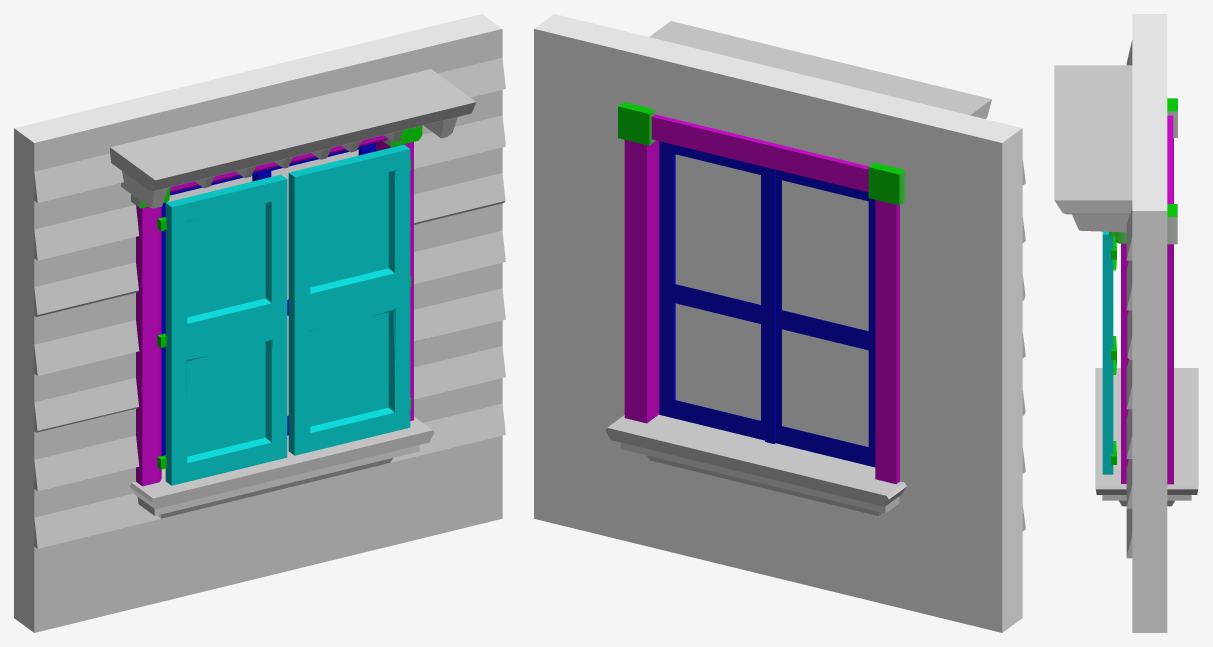
File: EAThe80_WindowWide_4x4.fbx
3 views of the same model, side by side, from view 1: azimuth 30°, elevation 25°; view 2: azimuth 150°, elevation 25°; view 3: azimuth 270°, elevation 25° (orthographic). The views are drawn at different scales.
Visible parts, largest first — view 1: EAThe80_WindowWide_4x4_01, EAThe80_WallInter_Big_01_L, EAThe80_WallInter_Big_01_R, EAThe80_WindowRoof_x4_01, EAThe80_Window_int_01; view 2: EAThe80_WindowWide_4x4_01, EAThe80_Window_int_01, EAThe80_WindowRoof_x4_01; view 3: EAThe80_WindowWide_4x4_01, EAThe80_WindowRoof_x4_01, EAThe80_WallInter_Big_01_R.
Boxes of the visible parts, x1,y1,x2,y2 form: EAThe80_WindowWide_4x4_01: (14,14,505,632); EAThe80_WallInter_Big_01_L: (157,174,287,485); EAThe80_WallInter_Big_01_R: (288,144,411,455); EAThe80_WindowRoof_x4_01: (110,69,476,208); EAThe80_Window_int_01: (161,143,375,455); EAThe80_WindowWide_4x4_01: (534,14,1025,632); EAThe80_Window_int_01: (659,141,875,467); EAThe80_WindowRoof_x4_01: (649,21,991,118); EAThe80_WindowWide_4x4_01: (1095,14,1198,632); EAThe80_WindowRoof_x4_01: (1054,65,1132,232); EAThe80_WallInter_Big_01_R: (1102,231,1116,474).
Bounding box in the file's own units: 4 × 4 × 1.24.
